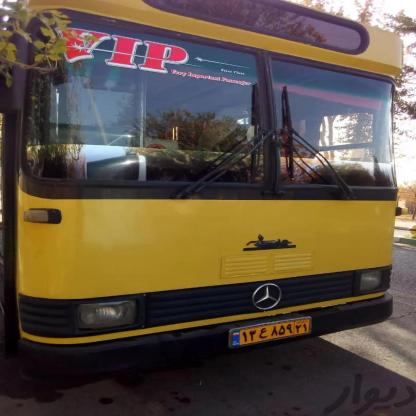Bus: (0, 0, 413, 358)
